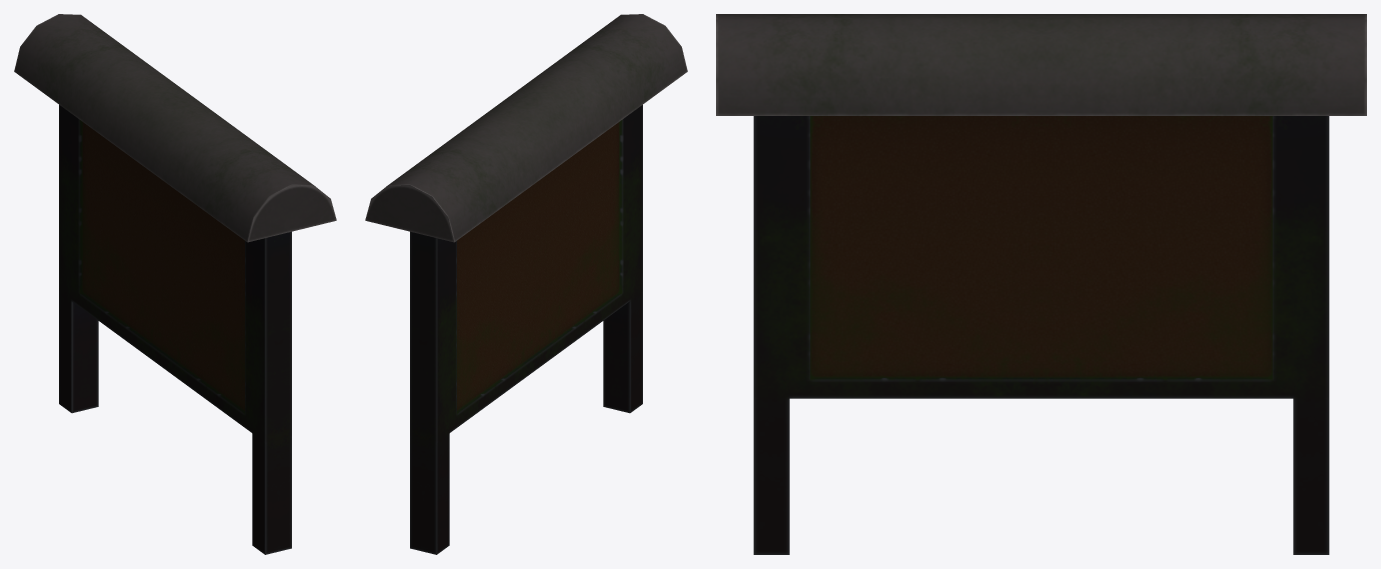
File: Board.glb
The picture shows the model from 3 angles, left to right: view 1: azimuth 30°, elevation 25°; view 2: azimuth 150°, elevation 25°; view 3: azimuth 270°, elevation 25°; orthographic projection. The views are drawn at different scales.
Parts seen in each view (by area): view 1: Object_2; view 2: Object_2; view 3: Object_2.
Boxes of the visible parts, box(x1,y1,x2,y2) form: Object_2: box(14, 14, 336, 554); Object_2: box(365, 14, 687, 554); Object_2: box(716, 14, 1366, 554).
Bounding box in the file's own units: 50 × 201 × 226.
1 material, 1 textured.
